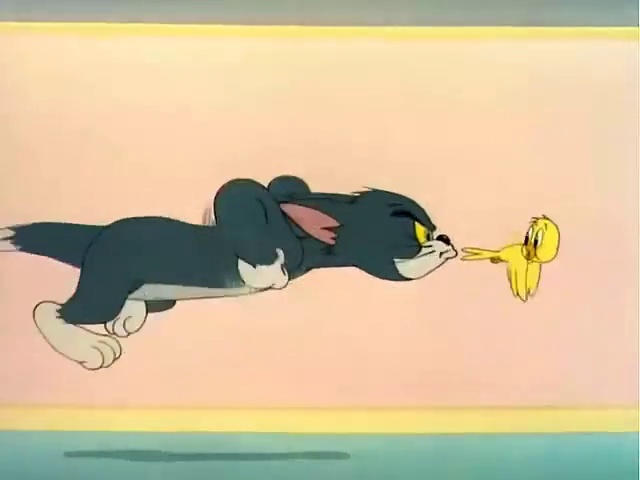tom: (8, 131, 456, 415)
